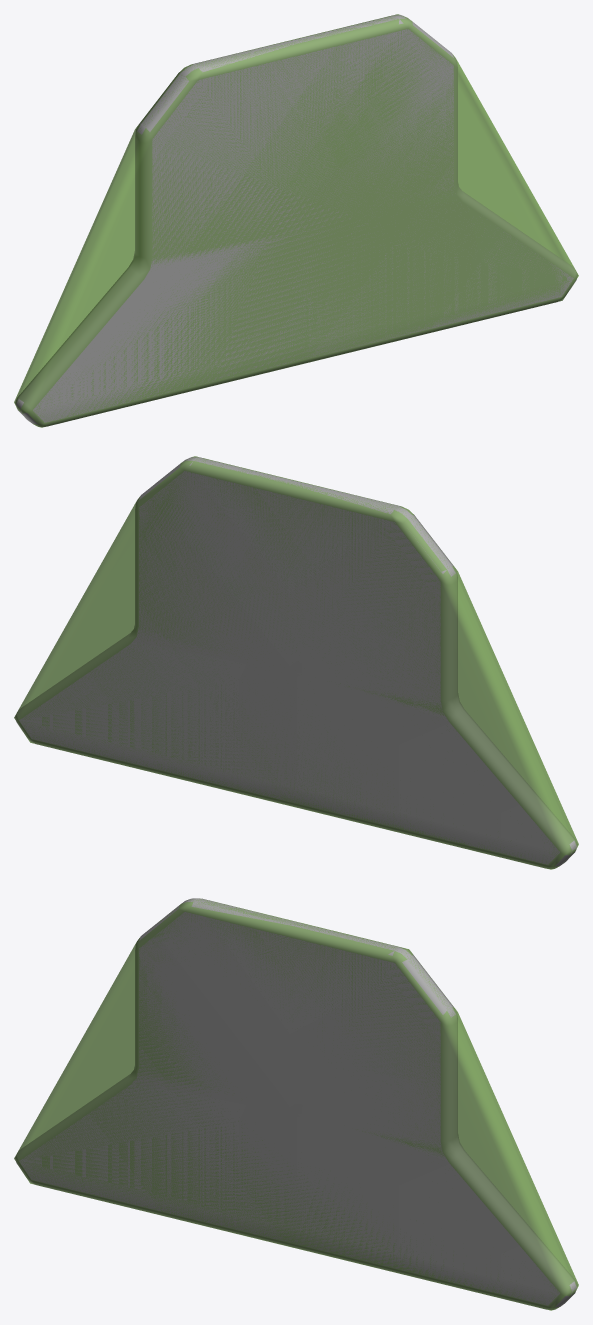
File: M_md_StallTL_end_01.fbx
3 renders of one model, top to bottom at view 1: azimuth 30°, elevation 25°; view 2: azimuth 150°, elevation 25°; view 3: azimuth 330°, elevation 25°, orthographic.
Parts seen in each view (by area): view 1: M_md_StallTL_end_01_LOD0, M_md_StallTL_end_01_col_01; view 2: M_md_StallTL_end_01_LOD0, M_md_StallTL_end_01_col_01; view 3: M_md_StallTL_end_01_LOD0, M_md_StallTL_end_01_col_01.
Part boxes in pixels (<box>): M_md_StallTL_end_01_LOD0: <box>15,15,577,426</box>; M_md_StallTL_end_01_col_01: <box>14,14,578,427</box>; M_md_StallTL_end_01_LOD0: <box>15,457,577,868</box>; M_md_StallTL_end_01_col_01: <box>14,456,578,869</box>; M_md_StallTL_end_01_LOD0: <box>15,898,577,1309</box>; M_md_StallTL_end_01_col_01: <box>14,899,578,1310</box>.
Size of what is drawn, in the model's own units: 58.77 by 32.44 by 2.47.
